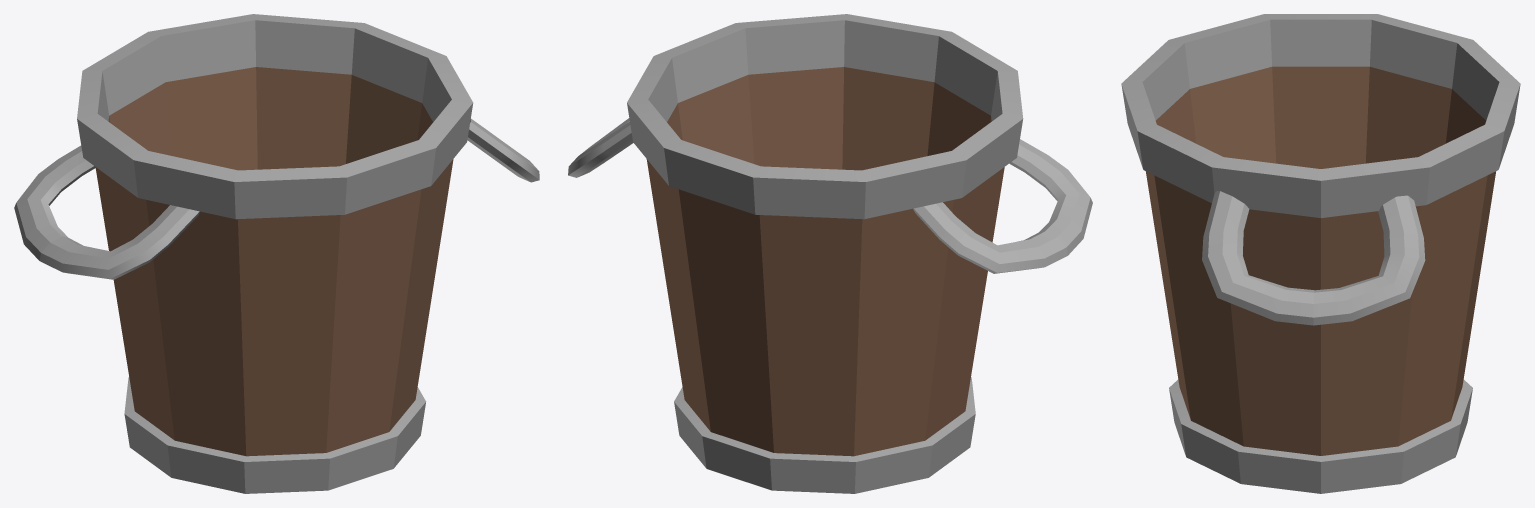
Rendered from Bucket.fbx.
3 renders of one model, left to right at view 1: azimuth 30°, elevation 25°; view 2: azimuth 150°, elevation 25°; view 3: azimuth 270°, elevation 25°, orthographic.
Parts seen in each view (by area): view 1: pCylinder6; view 2: pCylinder6; view 3: pCylinder6.
Boxes of the visible parts, x1=… form: pCylinder6: x1=14, y1=14, x2=539, y2=493; pCylinder6: x1=568, y1=14, x2=1092, y2=493; pCylinder6: x1=1121, y1=14, x2=1520, y2=493.
Size of the model in its own units: 5.27 by 3.6 by 3.86.
